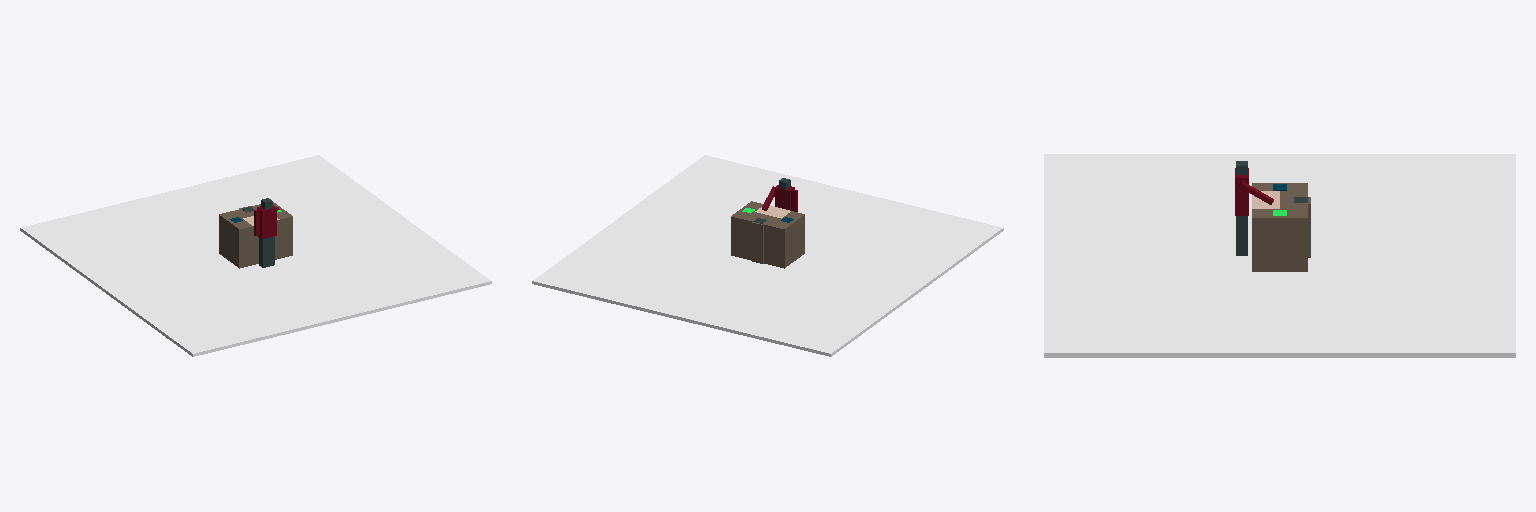
The robot description file, URDF, robot "workstation":
<?xml version="1.0"?>

<robot name="workstation">

  <link name="table">
    <visual>
      <origin xyz="0 0 0" />
      <geometry>
        <box size="1.8 1.2 1.3" />
      </geometry>
      <material name='light_brown'>
        <color rgba="0.48 0.42 0.36 1" />
      </material>
    </visual>

    <collision>
      <origin xyz="0 0 0" />
      <geometry>
        <box size="1.8 1.2 1.3" />
      </geometry>
    </collision>
  </link>

  <link name="ground">
    <visual>
      <origin xyz="0 0 0" />
      <geometry>
        <box size="10 10 0.1" />
      </geometry>
      <material name='white'>
        <color rgba="1 1 1 1" />
      </material>
    </visual>
  </link>
  <joint name="ground" type="fixed">
    <parent link="table" />
    <child link="ground" />
    <origin xyz="0 0 -0.65"/>
  </joint>

  <link name="human_work_area">
    <visual>
      <origin xyz="0 0 0" />
      <geometry>
        <box size="0.9 0.6 0.01" />
      </geometry>
      <material name='sand'>
        <color rgba="0.91 0.81 0.74 1" />
      </material>
    </visual>

    <collision>
      <origin xyz="0 0 0" />
      <geometry>
        <box size="0.9 0.6 0.01" />
      </geometry>
    </collision>
  </link>

  <joint name="human_work_area_fixed" type="fixed">
    <parent link="table" />
    <child link="human_work_area" />
    <origin xyz="0 -0.3 0.65"/>
  </joint>

  <link name="part_dropoff">
    <visual>
      <origin xyz="0 0 0" />
      <geometry>
        <box size="0.3 0.3 0.01" />
      </geometry>
      <material name='green'>
        <color rgba="0.21 1.0 0.41 1" />
      </material>
    </visual>

    <collision>
      <origin xyz="0 0 0" />
      <geometry>
        <box size="0.3 0.3 0.01" />
      </geometry>
    </collision>
  </link>

  <joint name="part_dropoff_fixed" type="fixed">
    <parent link="table" />
    <child link="part_dropoff" />
    <origin xyz="0.65 0.0 0.65"/>
  </joint>

  <link name="part_pickup">
    <visual>
      <origin xyz="0 0 0" />
      <geometry>
        <box size="0.3 0.3 0.01" />
      </geometry>
      <material name='dark_blue'>
        <color rgba="0.0 0.31 0.39 1" />
      </material>
    </visual>

    <collision>
      <origin xyz="0 0 0" />
      <geometry>
        <box size="0.3 0.3 0.01" />
      </geometry>
    </collision>
  </link>

  <joint name="part_pickup_fixed" type="fixed">
    <parent link="table" />
    <child link="part_pickup" />
    <origin xyz="-0.65 0.0 0.65"/>
  </joint>

  <!-- <link name="in_ramp">
    <visual>
      <origin xyz="0 0 0" />
      <geometry>
        <box size="0.4 0.75 0.1" />
      </geometry>
      <material name='green'>
        <color rgba="0.21 1.0 0.41 1" />
      </material>
    </visual>

    <collision>
      <origin xyz="0 0 0" />
      <geometry>
        <box size="0.4 0.75 0.1" />
      </geometry>
    </collision>
  </link>

  <joint name="in_ramp_fixed" type="fixed">
    <parent link="table" />
    <child link="in_ramp" />
    <origin xyz="0.3 1.1 0.75" rpy="0.174533 0 0"/>
  </joint>

  <link name="in_ramp_stop">
    <visual>
      <origin xyz="0 0 0" />
      <geometry>
        <box size="0.4 0.05 0.05" />
      </geometry>
      <material name='green'>
        <color rgba="0.21 1.0 0.41 1" />
      </material>
    </visual>

    <collision>
      <origin xyz="0 0 0" />
      <geometry>
        <box size="0.4 0.05 0.05" />
      </geometry>
    </collision>
  </link>

  <joint name="in_ramp_stop_fixed" type="fixed">
    <parent link="in_ramp" />
    <child link="in_ramp_stop" />
    <origin xyz="0.0 -0.35 0.075"/>
  </joint>

  <link name="out_ramp">
    <visual>
      <origin xyz="0 0 0" />
      <geometry>
        <box size="0.4 0.75 0.1" />
      </geometry>
      <material name='dark_blue'>
        <color rgba="0.0 0.31 0.39 1" />
      </material>
    </visual>

    <collision>
      <origin xyz="0 0 0" />
      <geometry>
        <box size="0.4 0.75 0.1" />
      </geometry>
    </collision>
  </link>

  <joint name="out_ramp_fixed" type="fixed">
    <parent link="table" />
    <child link="out_ramp" />
    <origin xyz="-0.3 1.1 0.6" rpy="0.174533 0 3.141592"/>
  </joint>

  <link name="out_ramp_stop">
    <visual>
      <origin xyz="0 0 0" />
      <geometry>
        <box size="0.4 0.05 0.05" />
      </geometry>
      <material name='dark_blue'>
        <color rgba="0.0 0.31 0.39 1" />
      </material>
    </visual>

    <collision>
      <origin xyz="0 0 0" />
      <geometry>
        <box size="0.4 0.05 0.05" />
      </geometry>
    </collision>
  </link>

  <joint name="out_ramp_stop_fixed" type="fixed">
    <parent link="out_ramp" />
    <child link="out_ramp_stop" />
    <origin xyz="0.0 -0.35 0.075"/>
  </joint> -->


  <link name="human_legs">
    <visual>
      <origin xyz="0 0 0" />
      <geometry>
        <box size="0.4 0.25 1.0" />
      </geometry>
      <material name='charcoal'>
        <color rgba="0.24 0.31 0.31 1" />
      </material>
    </visual>

    <collision>
      <origin xyz="0 0 0" />
      <geometry>
        <box size="0.4 0.25 1.0" />
      </geometry>
    </collision>
  </link>

  <joint name="human_legs_fixed" type="fixed">
    <parent link="table" />
    <child link="human_legs" />
    <origin xyz="-0.1 -0.8 -0.15"/>
  </joint>

  <link name="human_torso">
    <visual>
      <origin xyz="0 0 0" />
      <geometry>
        <box size="0.5 0.3 0.9" />
      </geometry>
      <material name='dark_red'>
        <color rgba="0.49 0.07 0.16 1" />
      </material>
    </visual>

    <collision>
      <origin xyz="0 0 0" />
      <geometry>
        <box size="0.5 0.3 0.9" />
      </geometry>
    </collision>
  </link>

  <joint name="human_torso_fixed" type="fixed">
    <parent link="human_legs" />
    <child link="human_torso" />
    <origin xyz="0.0 0 0.95"/>
  </joint>

  <link name="human_r_arm">
    <visual>
      <origin xyz="0 0 0" />
      <geometry>
        <box size="0.15 0.1 0.8" />
      </geometry>
      <material name='dark_red'>
        <color rgba="0.49 0.07 0.16 1" />
      </material>
    </visual>

    <collision>
      <origin xyz="0 0 0" />
      <geometry>
        <box size="0.15 0.1 0.8" />
      </geometry>
    </collision>
  </link>

  <joint name="human_r_arm_fixed" type="fixed">
    <parent link="human_torso" />
    <child link="human_r_arm" />
    <origin xyz="0.325 0.3 0.13" rpy="1 0 0"/>
  </joint>

  <link name="human_l_arm">
    <visual>
      <origin xyz="0 0 0" />
      <geometry>
        <box size="0.15 0.1 0.8" />
      </geometry>
      <material name='dark_red'>
        <color rgba="0.49 0.07 0.16 1" />
      </material>
    </visual>

    <collision>
      <origin xyz="0 0 0" />
      <geometry>
        <box size="0.15 0.1 0.8" />
      </geometry>
    </collision>
  </link>

  <joint name="human_l_arm_fixed" type="fixed">
    <parent link="human_torso" />
    <child link="human_l_arm" />
    <origin xyz="-0.325 0.0 0.03"/>
  </joint>

  <link name="human_head">
    <visual>
      <origin xyz="0 0 0" />
      <geometry>
        <box size="0.25 0.25 0.25" />
      </geometry>
      <material name='charcoal'>
        <color rgba="0.24 0.31 0.31 1" />
      </material>
    </visual>

    <collision>
      <origin xyz="0 0 0" />
      <geometry>
        <!-- <sphere radius="0.25"/> -->
        <box size="0.25 0.25 0.25" />
      </geometry>
    </collision>
  </link>

  <joint name="human_head_fixed" type="fixed">
    <parent link="human_torso" />
    <child link="human_head" />
    <origin xyz="0.0 0.0 0.55"/>
  </joint>

  <link name="robot_podium">
    <visual>
      <origin xyz="0 0 0" />
      <geometry>
        <box size="0.4 0.4 1.3" />
      </geometry>
      <material name='light_brown'>
        <color rgba="0.48 0.42 0.36 1" />
      </material>
    </visual>

    <!-- Comment out the collision tag, since we don't want the robot to collide
    with this. -->
    <!-- <collision>
      <origin xyz="0 0 0" />
      <geometry>
        <box size="0.4 0.4 0.01" />
      </geometry>
    </collision> -->
  </link>

  <joint name="robot_podium_fixed" type="fixed">
    <parent link="table" />
    <child link="robot_podium" />
    <origin xyz="0.0 0.45 0" rpy="0.0 0.0 0.0"/>
  </joint>

  <link name="robot_pad">
    <visual>
      <origin xyz="0 0 0" />
      <geometry>
        <box size="0.3 0.3 0.01" />
      </geometry>
      <material name='charcoal'>
        <color rgba="0.24 0.31 0.31 1" />
      </material>
    </visual>

    <!-- Comment out the collision tag, since we don't want the robot to collide
    with this. -->
    <!-- <collision>
      <origin xyz="0 0 0" />
      <geometry>
        <box size="0.4 0.4 0.01" />
      </geometry>
    </collision> -->
  </link>

  <joint name="robot_pad_fixed" type="fixed">
    <parent link="robot_podium" />
    <child link="robot_pad" />
    <origin xyz="0.0 0.0 0.655" rpy="0.0 0.0 -1.570796"/>
  </joint>

  <!-- <link name="marker">
    <visual>
      <origin xyz="0 0 0" />
      <geometry>
        <sphere radius="0.05"/>
      </geometry>
      <material name='charcoal'>
        <color rgba="0.24 0.31 0.31 1" />
      </material>
    </visual>
  </link>

  <joint name="marker_fixed" type="fixed">
    <parent link="table" />
    <child link="marker" />
    <origin xyz="0.0739796 -0.406269   1.48302"/>
  </joint>

  <link name="pointer">
    <visual>
      <origin xyz="0 0 0" />
      <geometry>
        <sphere radius="0.05"/>
      </geometry>
      <material name='dark_red'>
        <color rgba="0.49 0.07 0.16 1" />
      </material>
    </visual>
  </link>

  <joint name="pointer_fixed" type="fixed">
    <parent link="marker" />
    <child link="pointer" />
    <origin xyz=" -0.795855  0.327844  0.509051"/>
  </joint> -->

</robot>

--- What the picture shows (computed from the rendered views, not written in the file) ---
Views: 3 orthographic renders of the robot side by side, from view 1: azimuth 30°, elevation 25°; view 2: azimuth 150°, elevation 25°; view 3: azimuth 270°, elevation 25°.
Model workstation with 12 links and 11 joints (11 fixed), rooted at table, posed every joint at zero.
Visible links, largest first — view 1: ground, table; view 2: ground, table, robot_podium; view 3: ground, table.
Boxes of the visible links, <box> form: ground: <box>20,155,491,356</box>; table: <box>219,202,292,268</box>; ground: <box>532,155,1003,356</box>; table: <box>731,201,804,268</box>; robot_podium: <box>751,217,763,263</box>; ground: <box>1044,154,1515,357</box>; table: <box>1252,183,1307,271</box>.
Size in the robot's own frame: 10 by 10 by 2.17 metres.
Geometry: primitives only (box / cylinder / sphere), no mesh files.